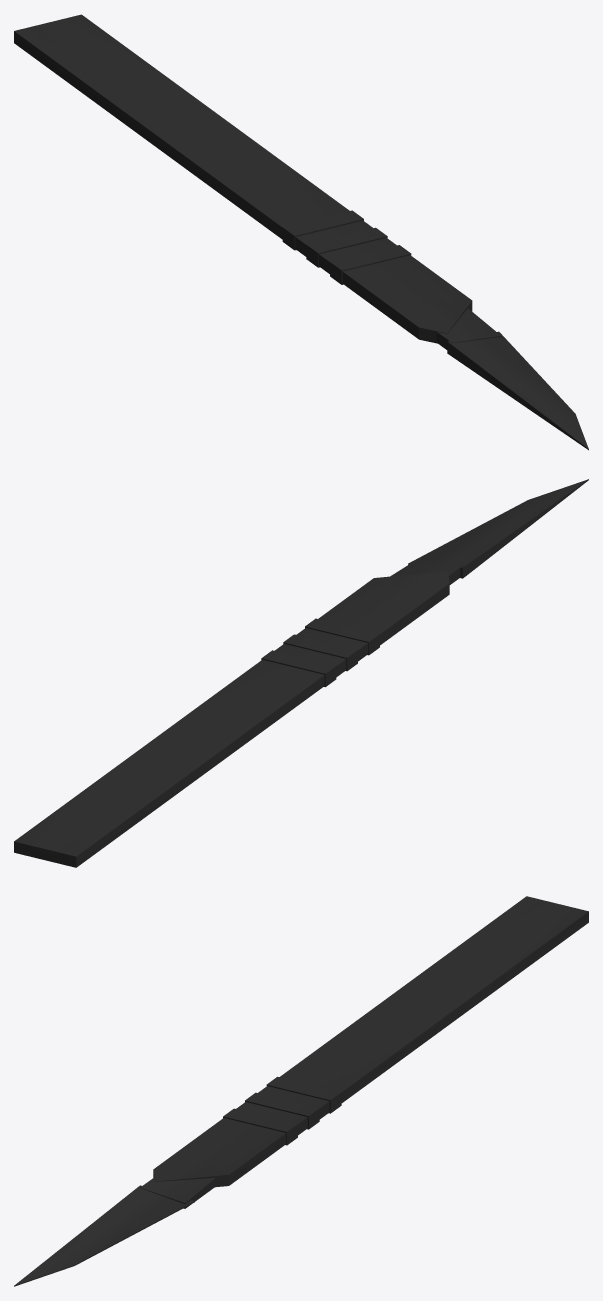
Rendered from Bisturi.fbx.
The picture shows the model from 3 angles, top to bottom: view 1: azimuth 30°, elevation 25°; view 2: azimuth 150°, elevation 25°; view 3: azimuth 330°, elevation 25°; orthographic projection. The views are drawn at different scales.
Visible parts, largest first — view 1: Cube; view 2: Cube; view 3: Cube.
Boxes of the visible parts, x1,y1,x2,y2 form: Cube: [14, 14, 588, 450]; Cube: [14, 479, 588, 867]; Cube: [14, 896, 588, 1286].
Size of the model in its own units: 36.88 by 7.37 by 520.
1 material, 1 textured.
